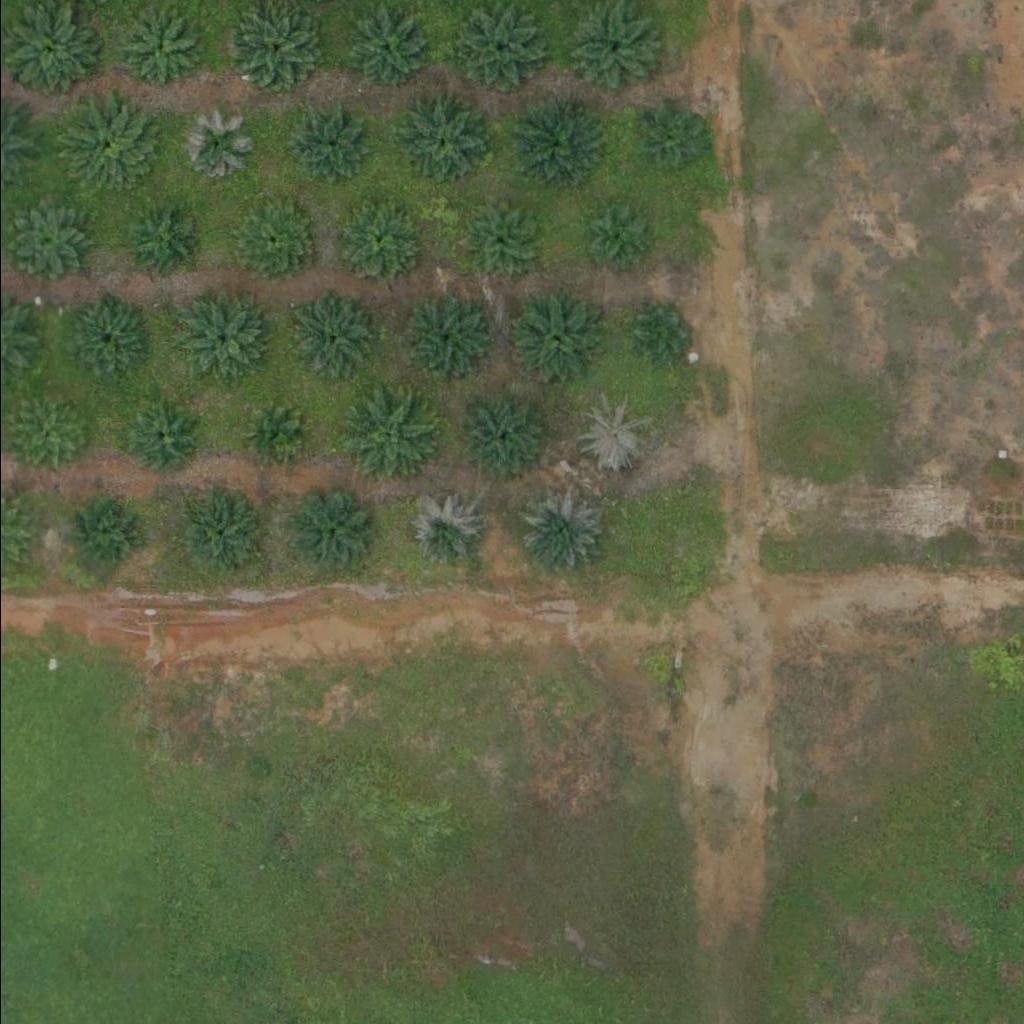Kelapa_Sawit: (58, 100, 159, 200), (504, 290, 604, 390), (450, 389, 550, 489), (336, 389, 436, 489), (449, 6, 538, 94), (225, 196, 314, 284), (58, 298, 147, 386), (119, 197, 207, 285), (507, 100, 595, 188), (394, 97, 482, 185), (328, 199, 416, 287), (514, 485, 602, 573), (284, 487, 372, 575), (173, 488, 261, 576), (336, 3, 424, 90), (226, 6, 314, 93), (399, 295, 487, 382), (283, 294, 371, 381), (173, 295, 261, 382), (121, 12, 197, 87), (575, 396, 651, 471), (405, 497, 481, 572), (457, 202, 532, 277), (121, 402, 196, 477), (66, 499, 141, 574), (289, 106, 364, 181), (175, 108, 250, 183), (10, 394, 85, 469), (636, 107, 699, 170), (589, 204, 652, 267), (238, 404, 301, 467), (629, 300, 691, 362)
